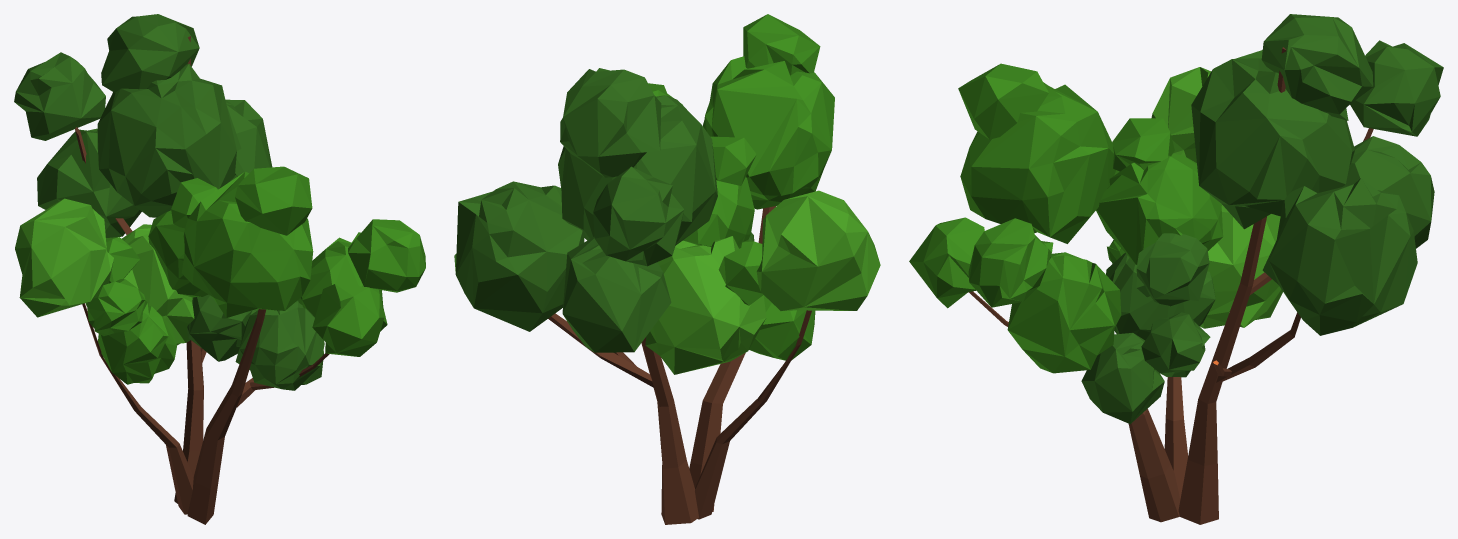
Rendered from TreeBig_001.FBX.
3 renders of one model, left to right at view 1: azimuth 30°, elevation 25°; view 2: azimuth 150°, elevation 25°; view 3: azimuth 270°, elevation 25°, orthographic. The views are drawn at different scales.
Parts seen in each view (by area): view 1: GeoSphere013, GeoSphere014, GeoSphere021, GeoSphere017, GeoSphere018, GeoSphere026, GeoSphere023, GeoSphere022, GeoSphere019, GeoSphere024, Trunk004, GeoSphere031 (+10 smaller); view 2: GeoSphere015, GeoSphere014, GeoSphere021, GeoSphere020, GeoSphere023, GeoSphere017, GeoSphere013, GeoSphere018, Trunk003, GeoSphere024, Cylinder013, GeoSphere030 (+5 smaller); view 3: GeoSphere013, GeoSphere015, GeoSphere014, GeoSphere016, GeoSphere030, GeoSphere017, Trunk003, GeoSphere018, GeoSphere022, GeoSphere020, GeoSphere029, GeoSphere023 (+10 smaller).
Boxes of the visible parts, <box> form: GeoSphere013: <box>97,63,241,217</box>; GeoSphere014: <box>181,171,313,317</box>; GeoSphere021: <box>15,198,113,317</box>; GeoSphere017: <box>101,14,199,92</box>; GeoSphere018: <box>14,52,105,140</box>; GeoSphere026: <box>235,301,324,390</box>; GeoSphere023: <box>37,128,141,237</box>; GeoSphere022: <box>348,219,425,292</box>; GeoSphere019: <box>312,284,384,356</box>; GeoSphere024: <box>235,166,312,235</box>; Trunk004: <box>187,309,265,524</box>; GeoSphere031: <box>98,306,176,384</box>; GeoSphere015: <box>454,181,584,331</box>; GeoSphere014: <box>703,56,834,209</box>; GeoSphere021: <box>756,190,880,311</box>; GeoSphere020: <box>645,236,766,374</box>; GeoSphere023: <box>562,236,671,352</box>; GeoSphere017: <box>560,68,661,177</box>; GeoSphere013: <box>558,95,717,245</box>; GeoSphere018: <box>593,166,684,266</box>; Trunk003: <box>641,337,698,524</box>; GeoSphere024: <box>743,14,820,75</box>; Cylinder013: <box>695,310,811,519</box>; GeoSphere030: <box>682,177,754,248</box>; GeoSphere013: <box>1191,50,1354,229</box>; GeoSphere015: <box>1262,178,1417,335</box>; GeoSphere014: <box>960,82,1115,243</box>; GeoSphere016: <box>1007,252,1121,373</box>; GeoSphere030: <box>1096,153,1223,264</box>; GeoSphere017: <box>1261,14,1373,120</box>; Trunk003: <box>1178,47,1286,524</box>; GeoSphere018: <box>1350,40,1443,136</box>; GeoSphere022: <box>968,218,1053,307</box>; GeoSphere020: <box>1200,205,1282,328</box>; GeoSphere029: <box>1081,333,1164,424</box>; GeoSphere023: <box>1343,136,1434,248</box>.
Bounding box in the file's own units: 46.94 × 62.07 × 59.06.
